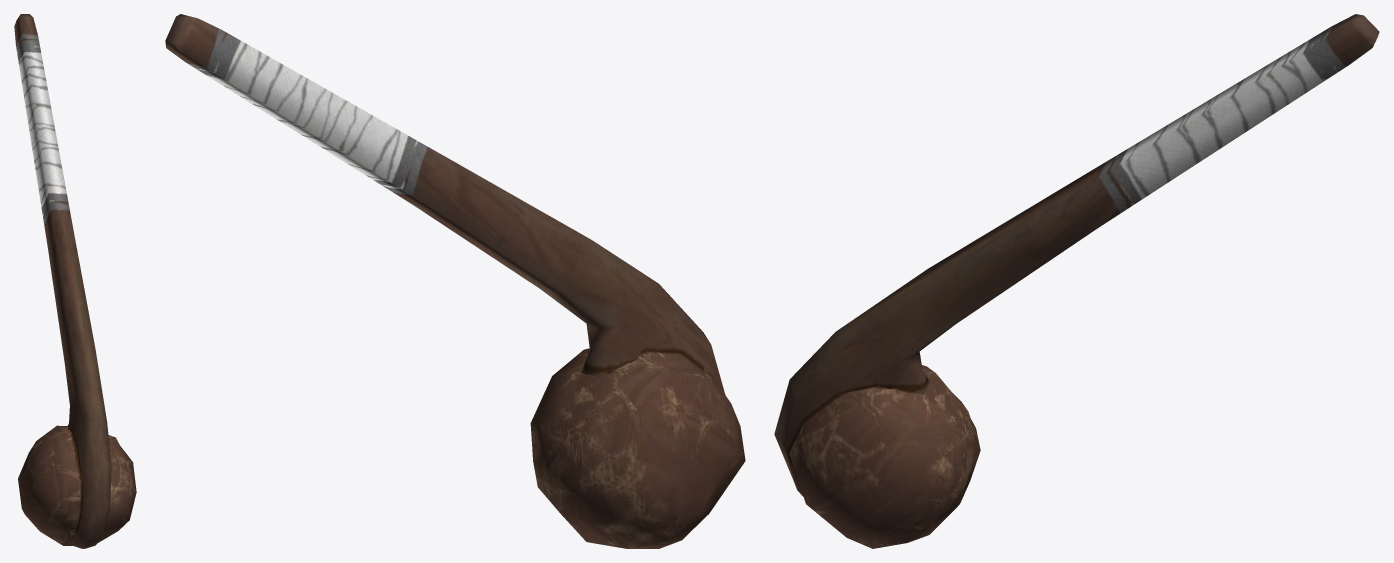
File: weapon-base.glb
3 views of the same model, side by side, from view 1: azimuth 30°, elevation 25°; view 2: azimuth 150°, elevation 25°; view 3: azimuth 270°, elevation 25° (orthographic). The views are drawn at different scales.
Size of the model in its own units: 0.281 by 0.6507 by 0.6002.
1 material, 1 textured.
